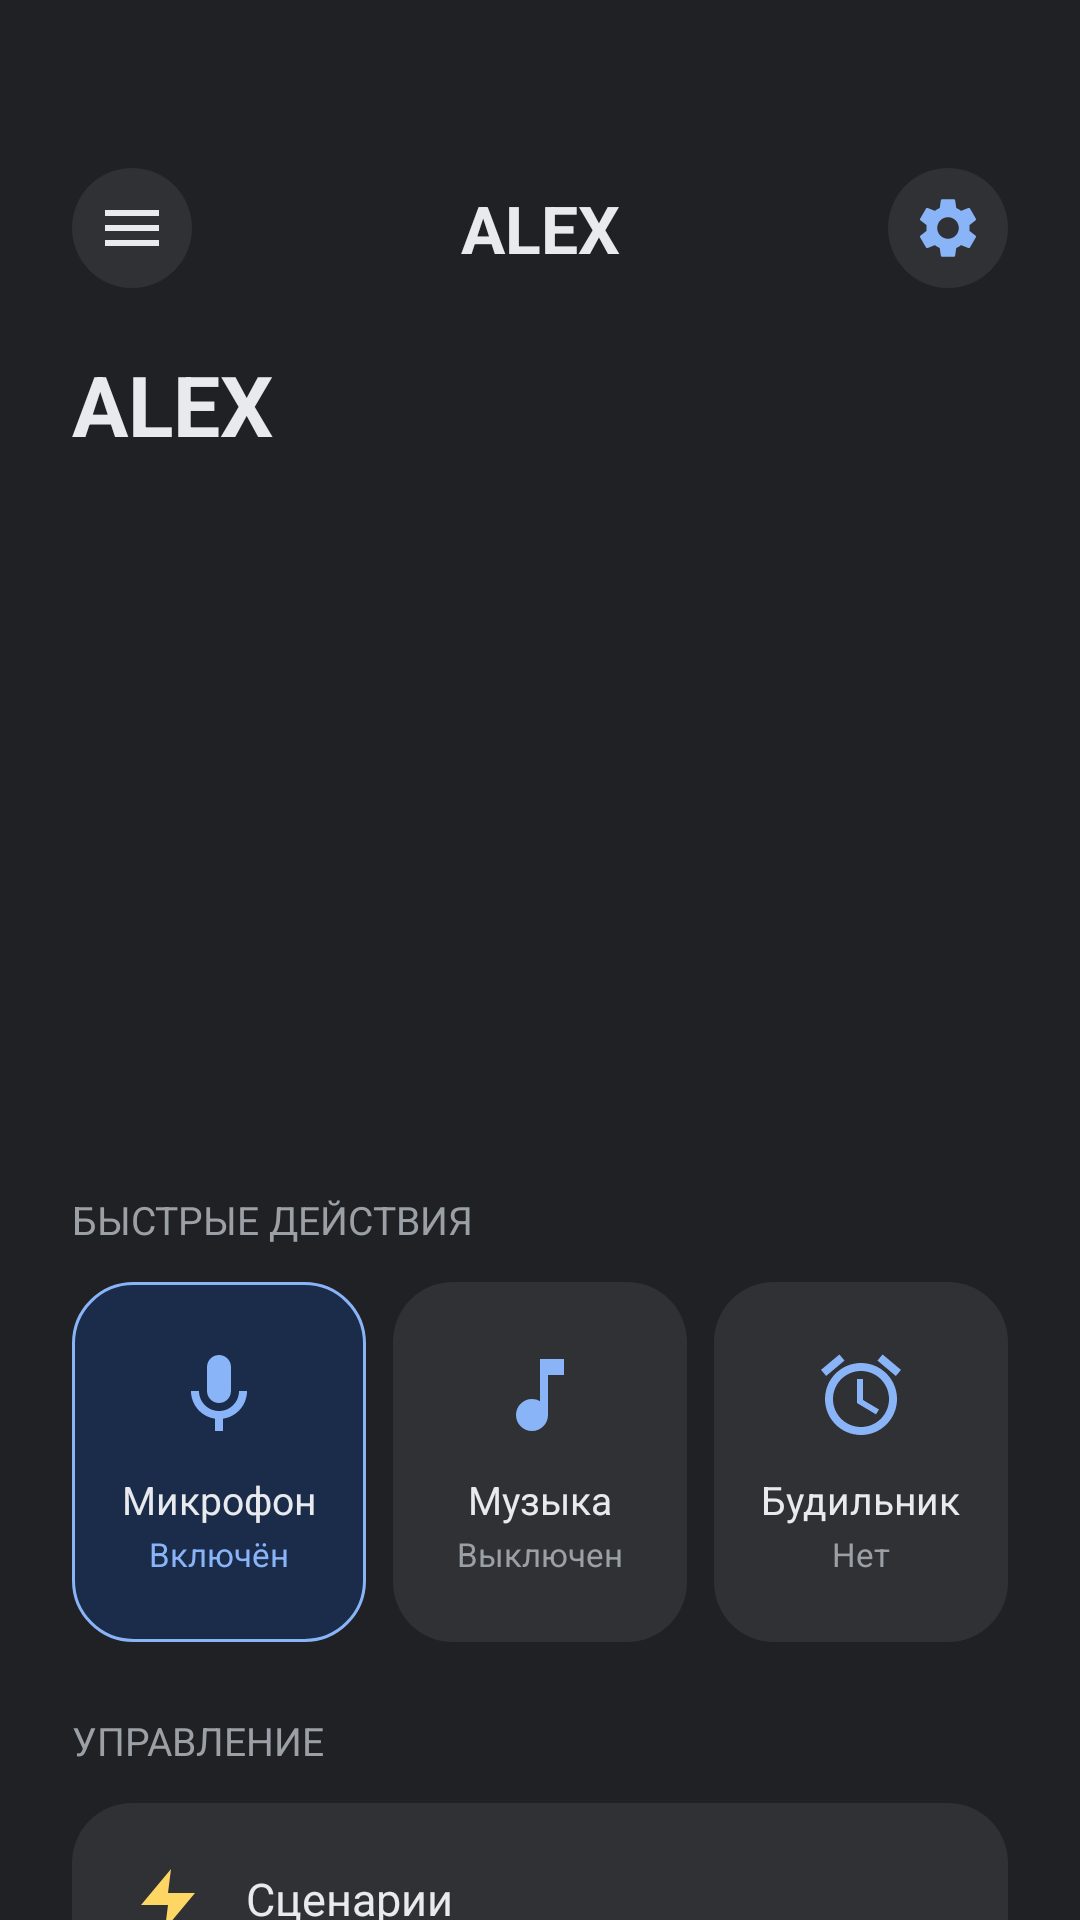

Icon bounding boxes for this 1080 x 1920 phone screenshot, format [x1, y1, x2, y2]:
alarm: [821, 1354, 901, 1435]
menu: [105, 210, 159, 246]
mic: [191, 1355, 247, 1431]
music: [516, 1359, 564, 1431]
settings: [920, 199, 976, 257]
